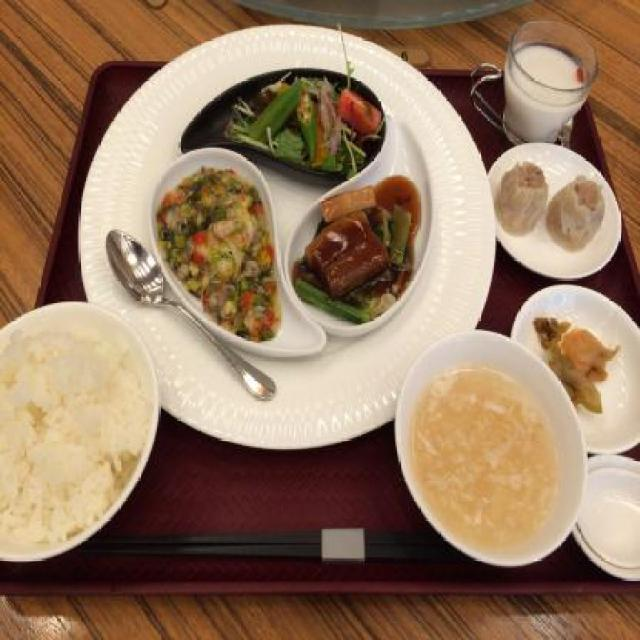Milk: (502, 31, 590, 140)
